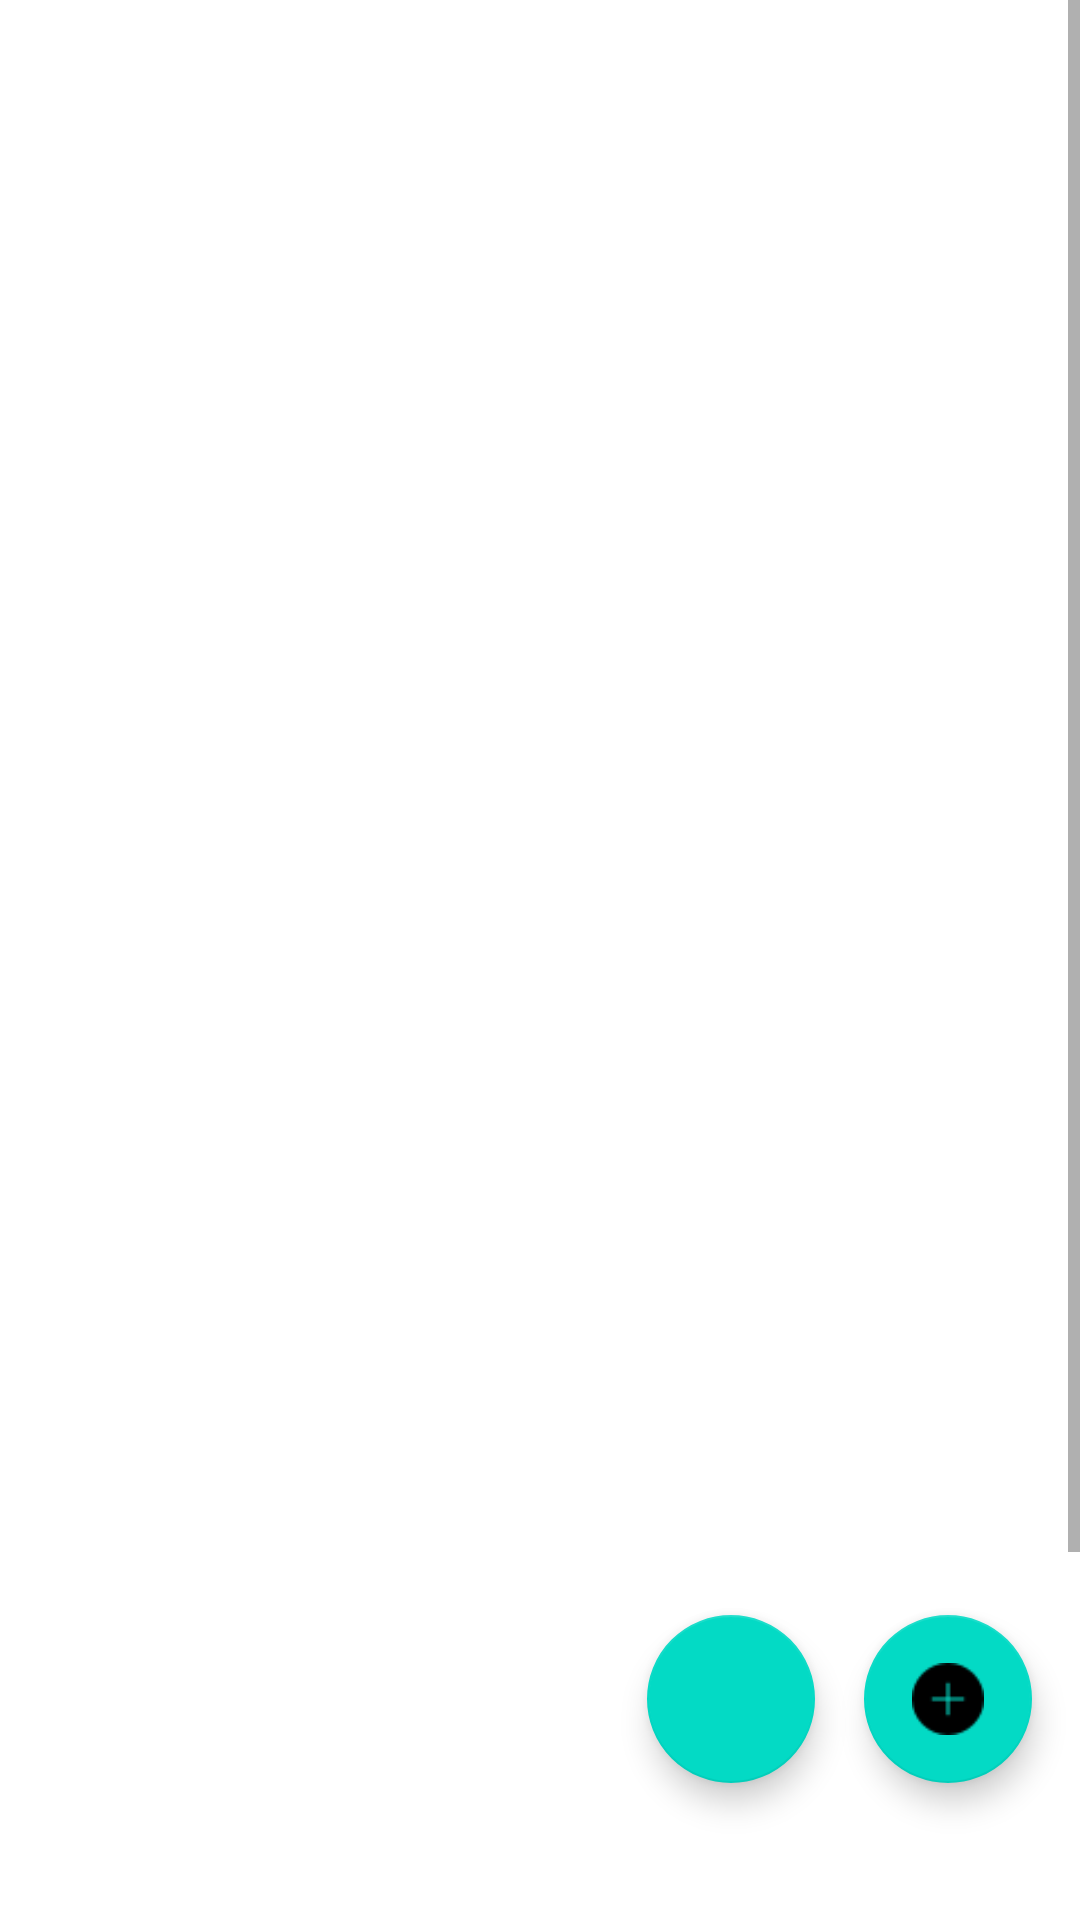

Icons on this 1080x1920 Android screen, each with its box as (x1, y1, x2, y2):
plus: (864, 1615, 1032, 1783)
